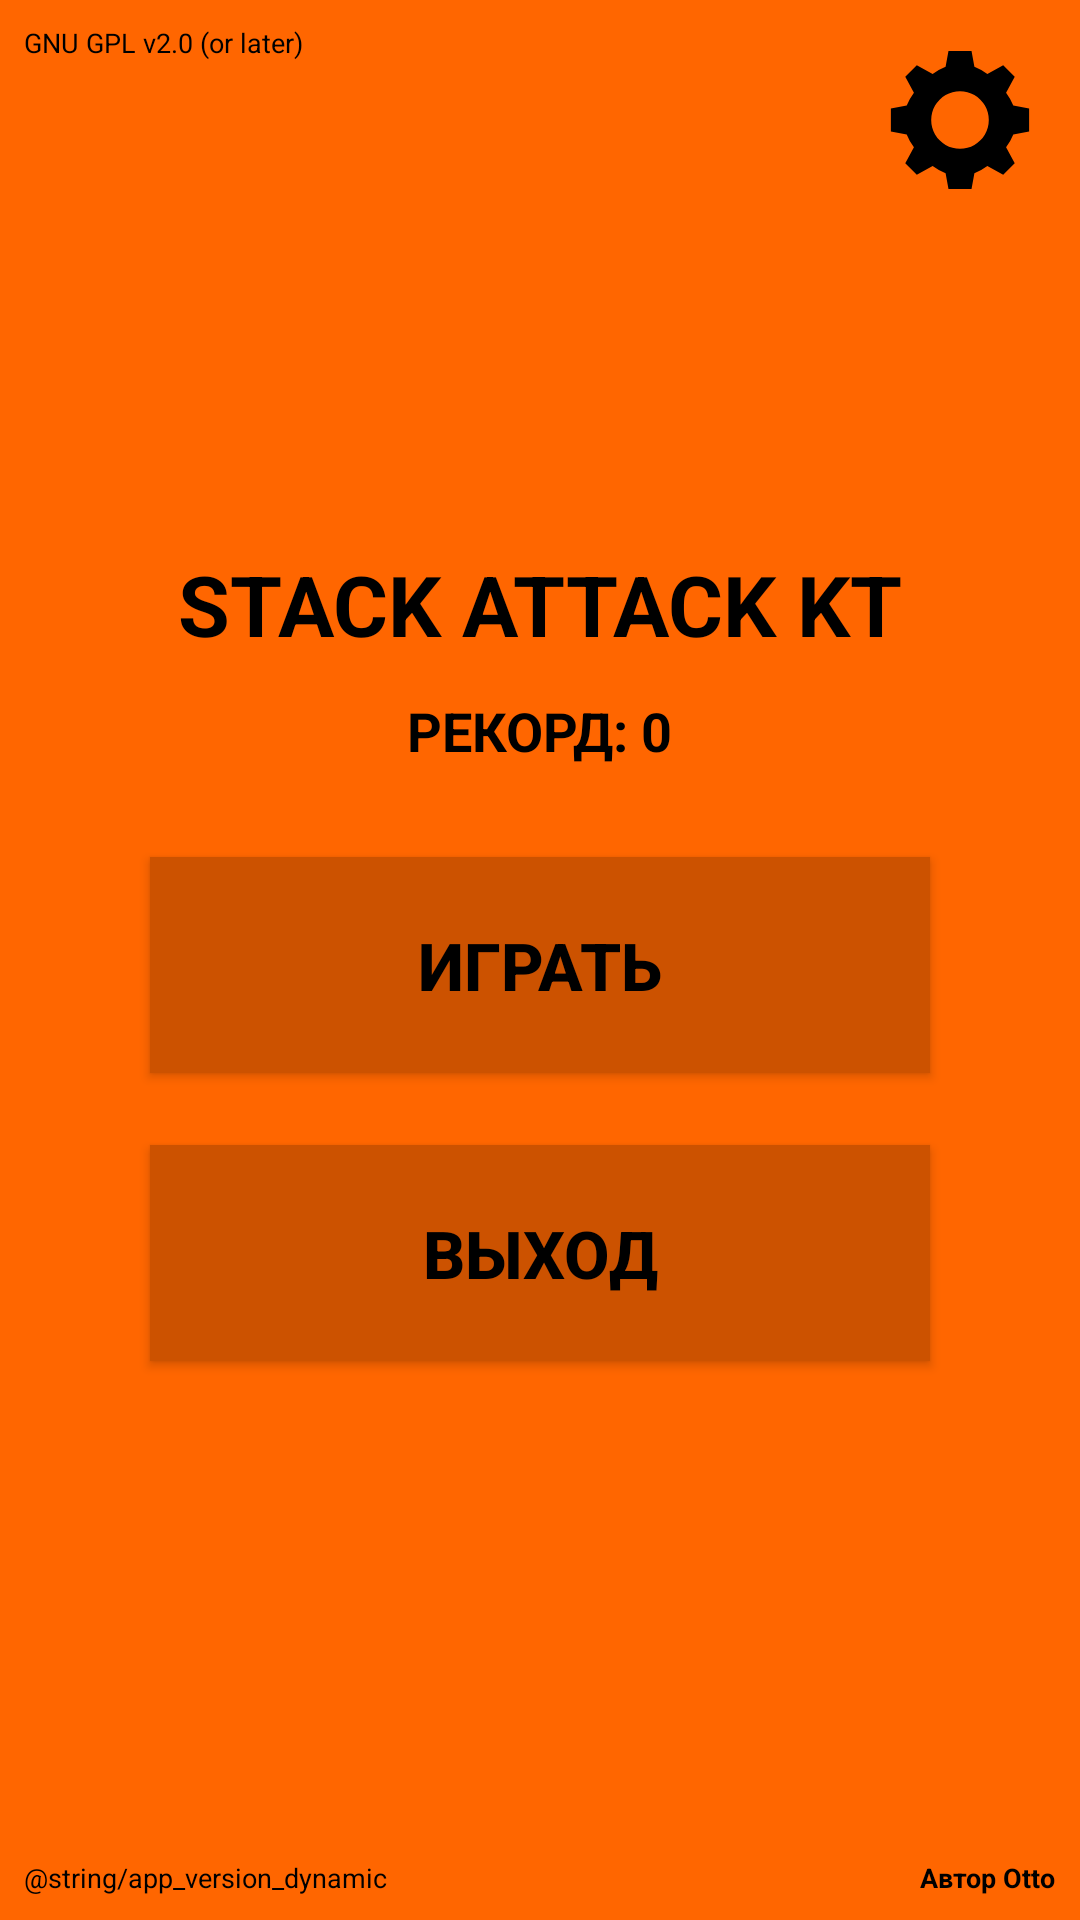

Named icons in this screenshot (1080px×1920px) and their bounding boxes, (x1, y1, x2, y2):
Настройки: (890, 51, 1030, 189)
